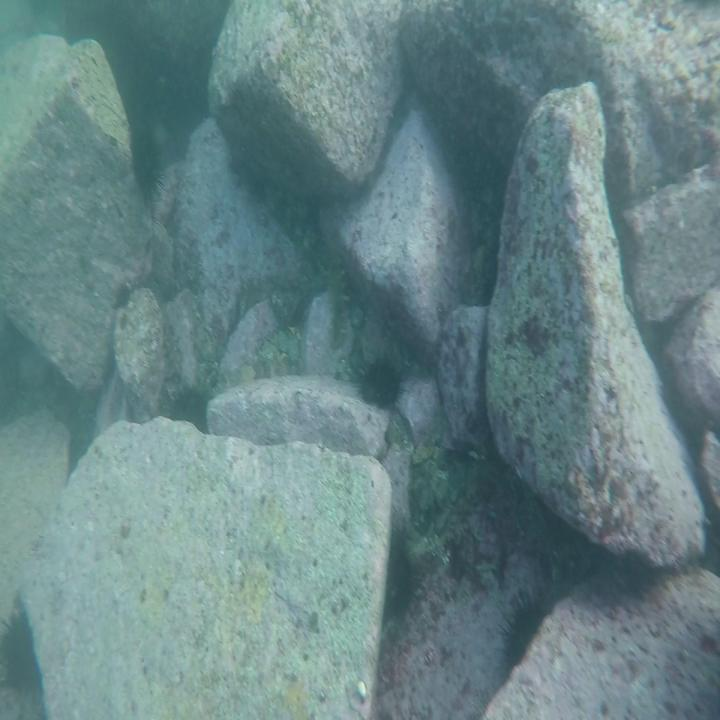echinus: (121, 119, 171, 216), (495, 588, 547, 670), (1, 611, 46, 698), (354, 353, 404, 421), (384, 523, 416, 629), (168, 379, 214, 437)
holothurian: (320, 238, 356, 354)
